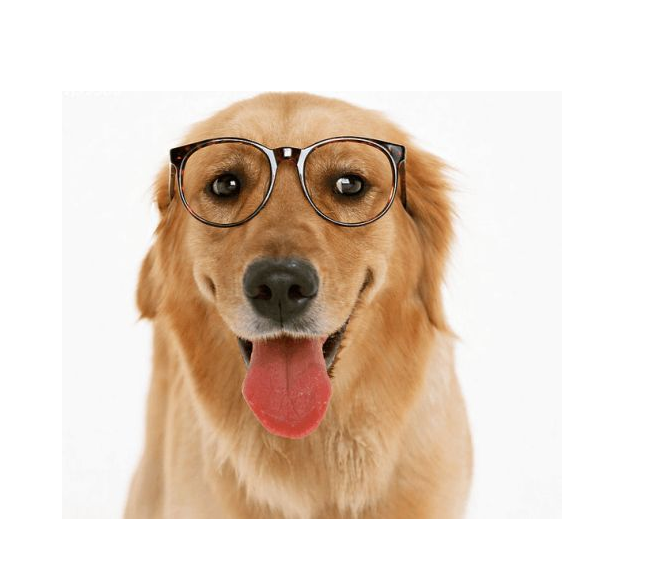nose: (234, 256, 325, 324)
